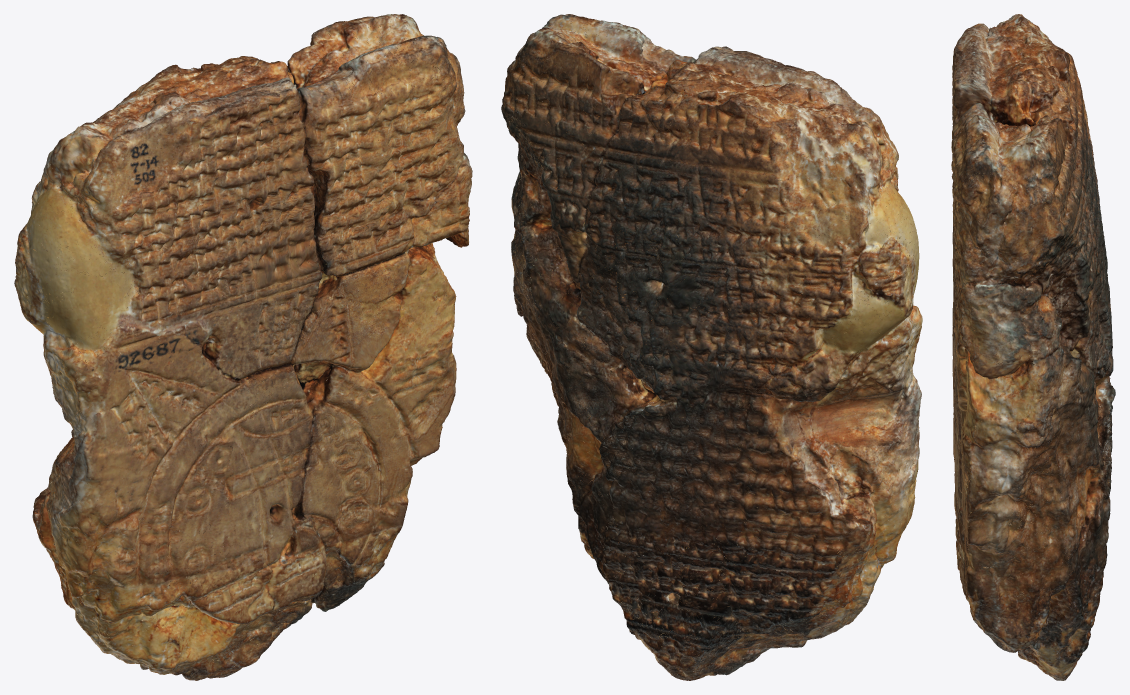
Rendered from babylonian_map_of_the_world_tablet_-_imago_mundi.glb.
3 views of the same model, side by side, from view 1: azimuth 30°, elevation 25°; view 2: azimuth 150°, elevation 25°; view 3: azimuth 270°, elevation 25° (orthographic). The views are drawn at different scales.
Visible parts, largest first — view 1: Object_2, Object_3, Object_4, Object_6, Object_5; view 2: Object_5, Object_6, Object_4, Object_2, Object_3; view 3: Object_4, Object_5, Object_3, Object_6, Object_2.
Boxes of the visible parts, left/top/right/bottom form: Object_2: left=27, top=14, right=463, bottom=651; Object_3: left=27, top=14, right=472, bottom=677; Object_4: left=14, top=15, right=471, bottom=680; Object_6: left=15, top=14, right=436, bottom=679; Object_5: left=20, top=23, right=446, bottom=680; Object_5: left=502, top=29, right=913, bottom=680; Object_6: left=503, top=28, right=911, bottom=678; Object_4: left=501, top=14, right=920, bottom=668; Object_2: left=515, top=17, right=921, bottom=636; Object_3: left=513, top=14, right=922, bottom=680; Object_4: left=965, top=14, right=1095, bottom=657; Object_5: left=1008, top=23, right=1115, bottom=680; Object_3: left=953, top=24, right=1102, bottom=673; Object_6: left=1015, top=21, right=1114, bottom=680; Object_2: left=951, top=23, right=1079, bottom=553.
Bounding box in the file's own units: 85.19 × 121 × 29.35.
1 material, 1 textured.
